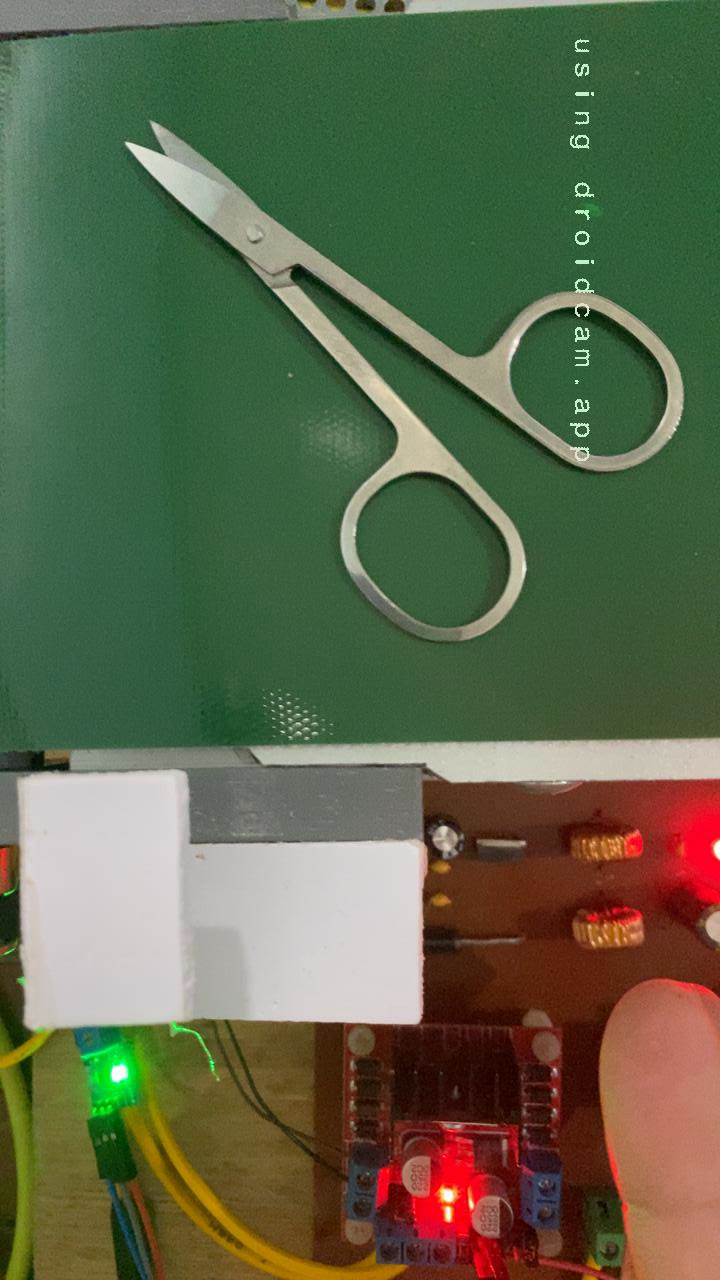scissor: (121, 116, 692, 649)
